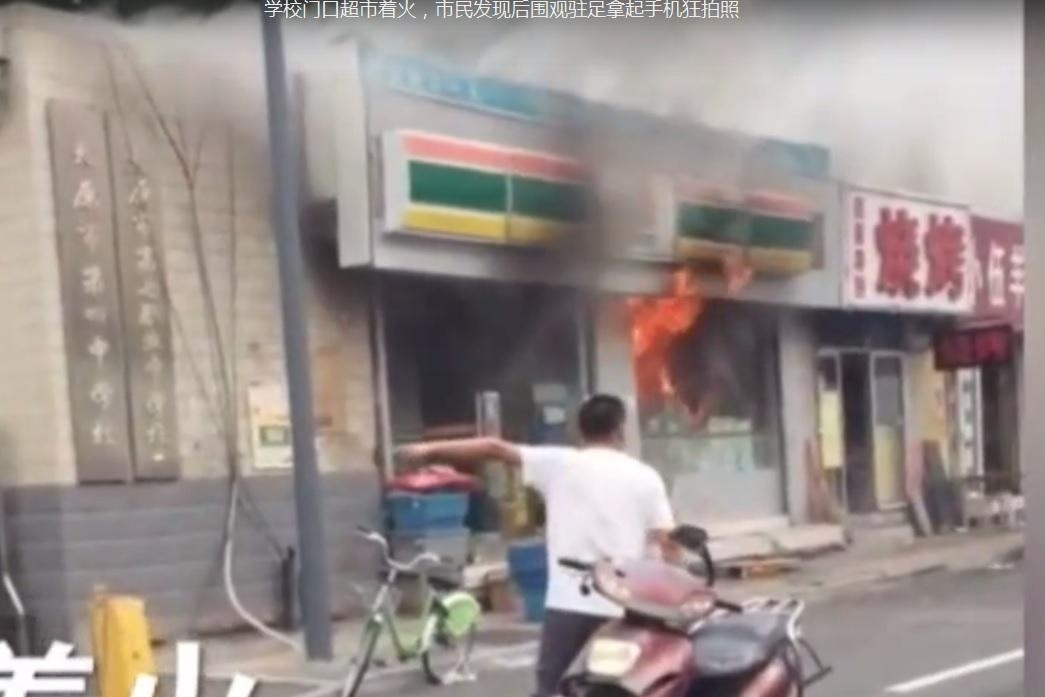fire: (628, 263, 706, 389)
